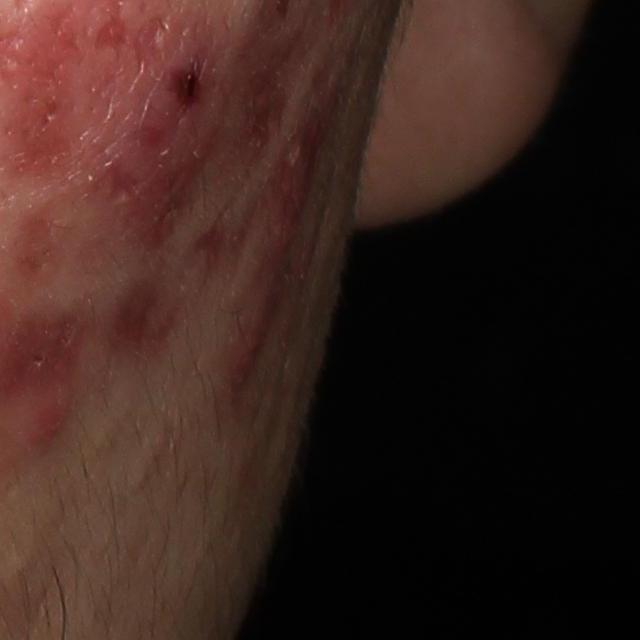nodule: (85, 19, 226, 245)
papule: (270, 117, 311, 256), (233, 289, 280, 377), (20, 400, 69, 453)
